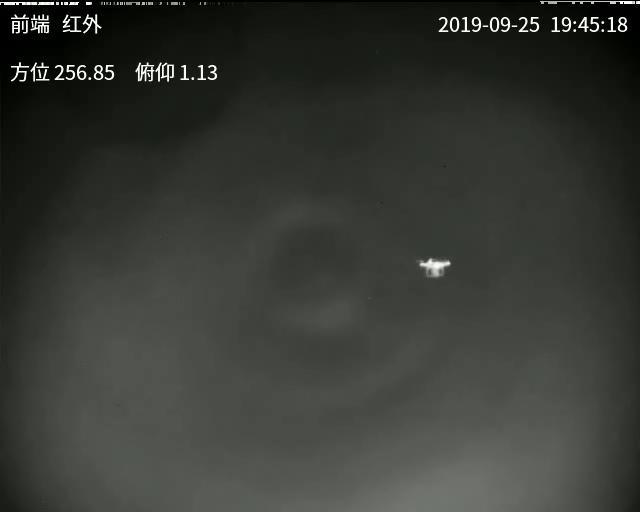uav: (409, 253, 452, 280)
